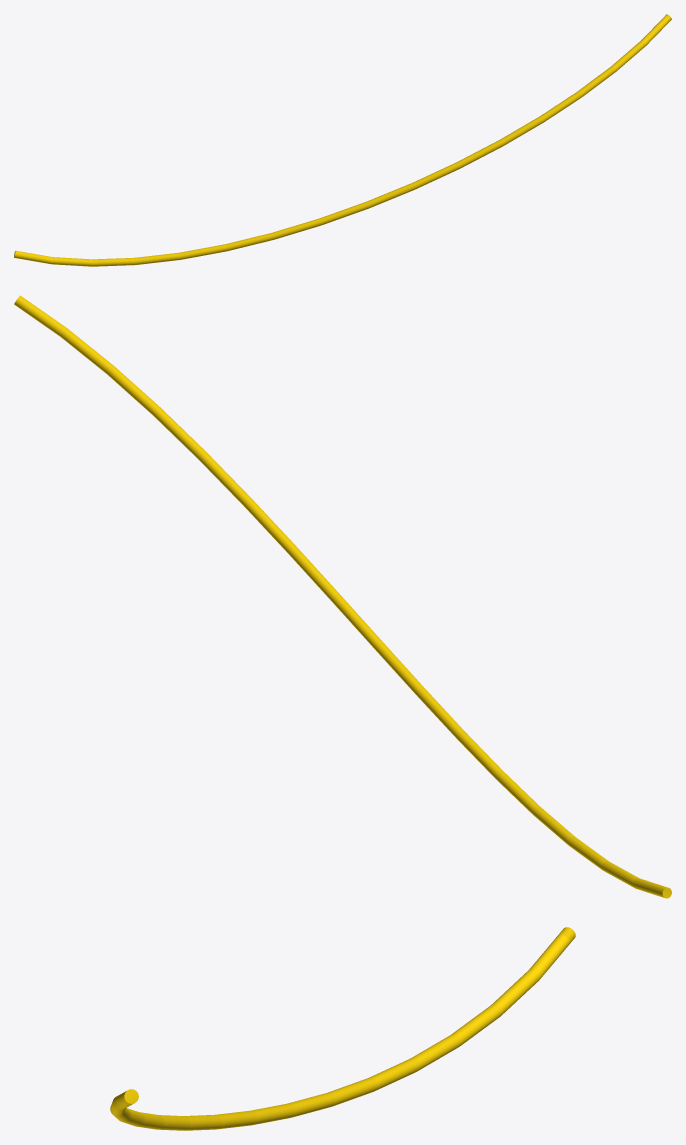
File: Event_421115418_track_49.fbx
The picture shows the model from 3 angles, top to bottom: view 1: azimuth 30°, elevation 25°; view 2: azimuth 150°, elevation 25°; view 3: azimuth 270°, elevation 25°; orthographic projection. The views are drawn at different scales.
Parts seen in each view (by area): view 1: Model; view 2: Model; view 3: Model.
Boxes of the visible parts, x1,y1,x2,y2 form: Model: (14, 14, 671, 266); Model: (14, 295, 671, 898); Model: (110, 927, 575, 1130).
Bounding box in the file's own units: 3.43 × 1.2 × 1.26.
